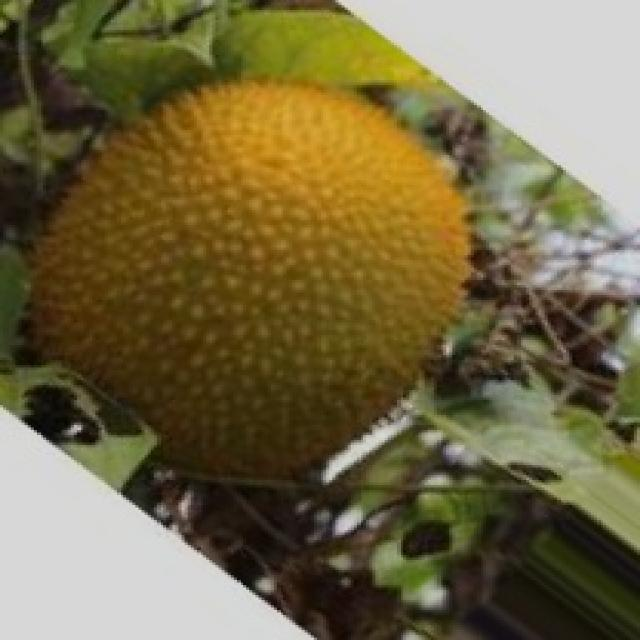Fruit: (120, 30, 526, 462)
